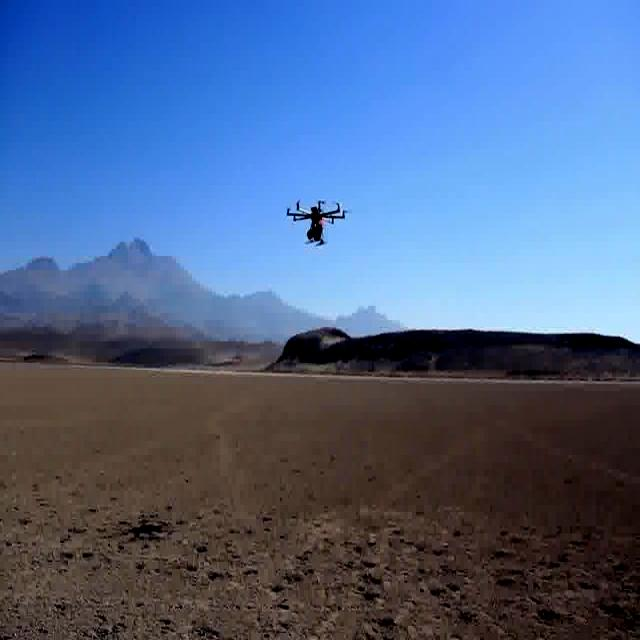drone: (282, 194, 350, 248)
